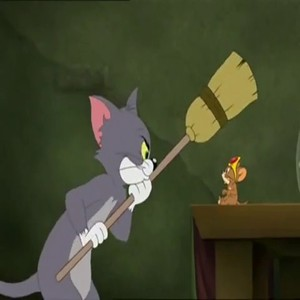Jerry: (213, 153, 250, 203)
